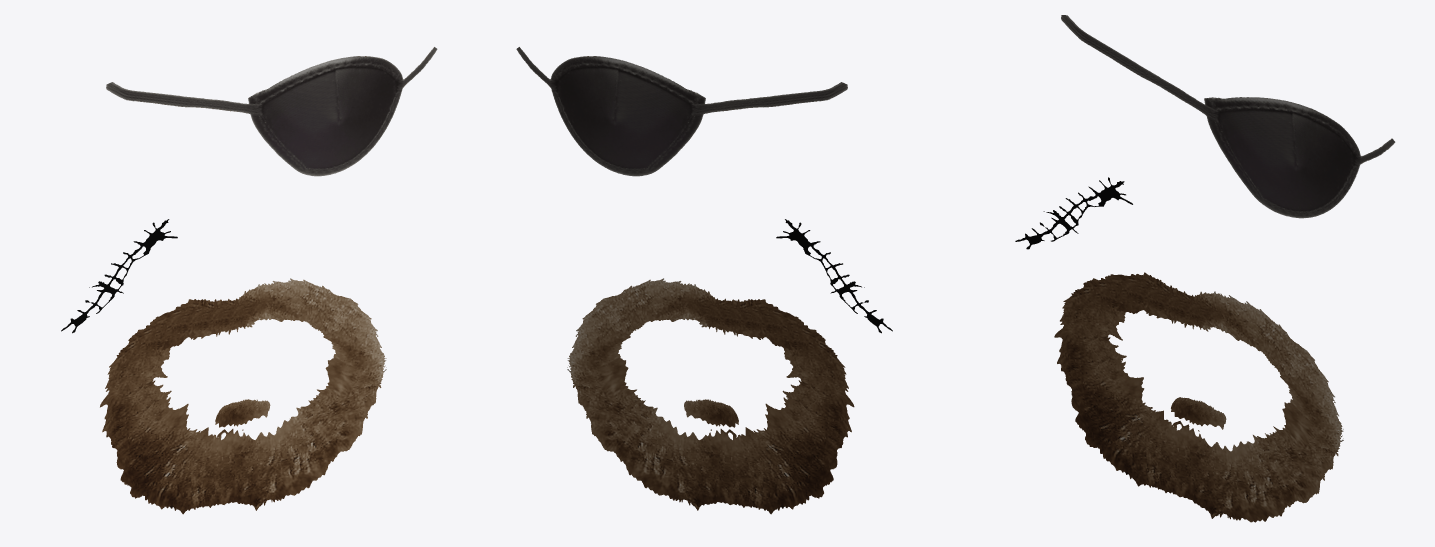
The model's file is mesh-68-puntos5.dae.
3 renders of one model, left to right at view 1: azimuth 30°, elevation 25°; view 2: azimuth 150°, elevation 25°; view 3: azimuth 330°, elevation 25°, orthographic.
Parts seen in each view (by area): view 1: Plane.001; view 2: Plane.001; view 3: Plane.001.
Part boxes in pixels (x1=…): Plane.001: x1=61, y1=47, x2=437, y2=514; Plane.001: x1=516, y1=47, x2=892, y2=514; Plane.001: x1=1015, y1=15, x2=1395, y2=522.
Size of the model in its own units: 7.75 by 0.00442 by 8.04.
1 material, 1 textured.
